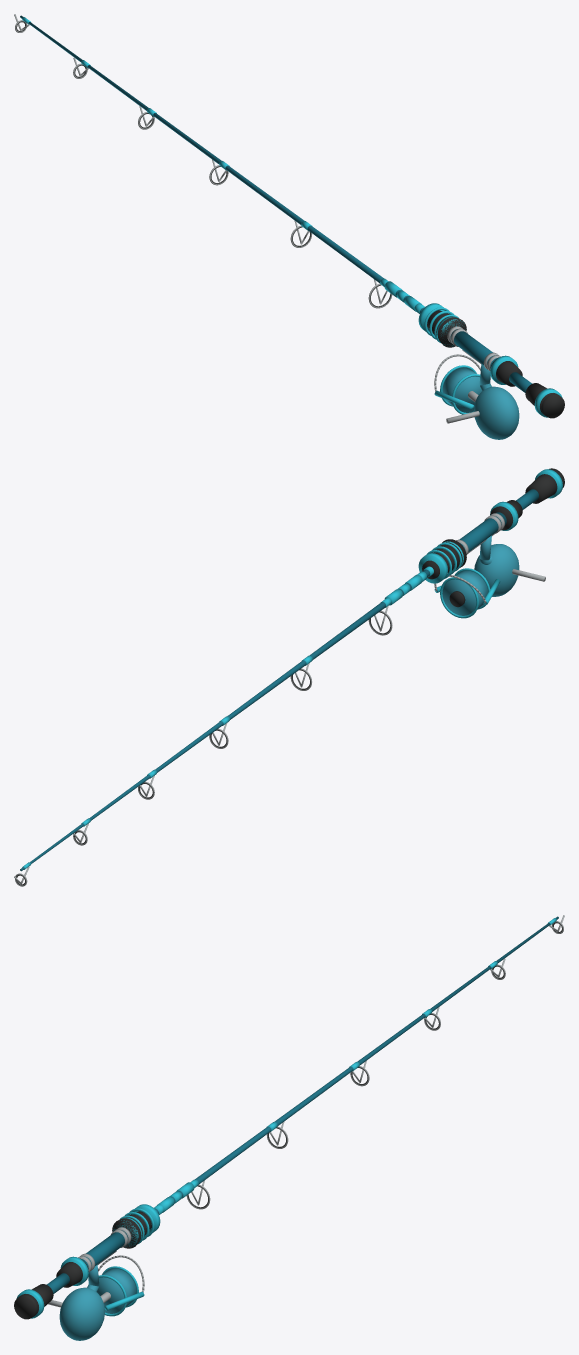
Rendered from kingfisher_feeder.glb.
3 renders of one model, top to bottom at view 1: azimuth 30°, elevation 25°; view 2: azimuth 150°, elevation 25°; view 3: azimuth 330°, elevation 25°, orthographic.
Parts seen in each view (by area): view 1: Tapered carbon blank.011; view 2: Tapered carbon blank.011; view 3: Tapered carbon blank.011.
Boxes of the visible parts, x1,y1,x2,y2 form: Tapered carbon blank.011: [14, 14, 564, 439]; Tapered carbon blank.011: [14, 468, 564, 886]; Tapered carbon blank.011: [14, 915, 564, 1340].
Size of the model in its own units: 0.1318 by 0.1456 by 1.64.
